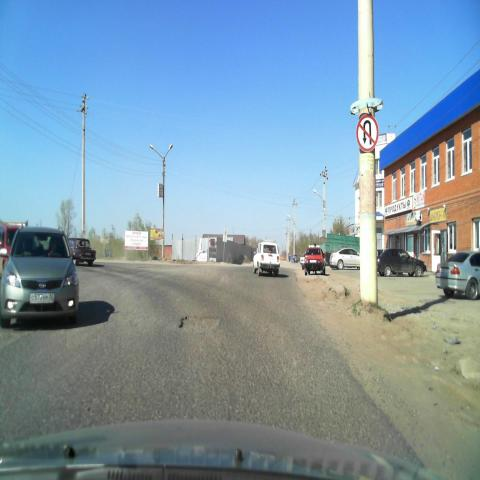3_19: (356, 114, 380, 154)
